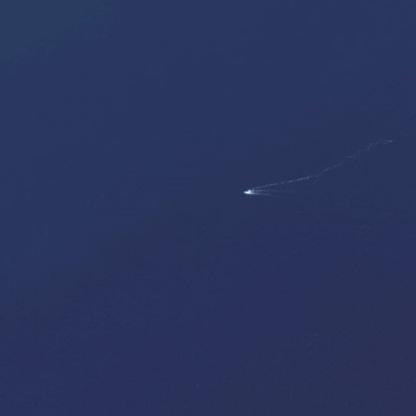ship: (240, 182, 258, 200)
